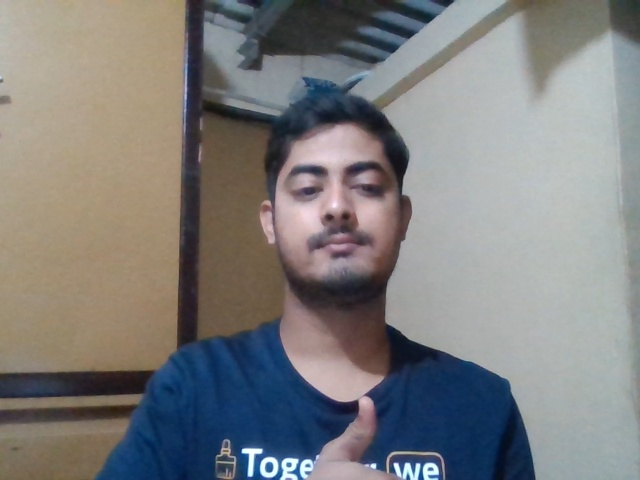ThumbsUp: (314, 396, 398, 480)
